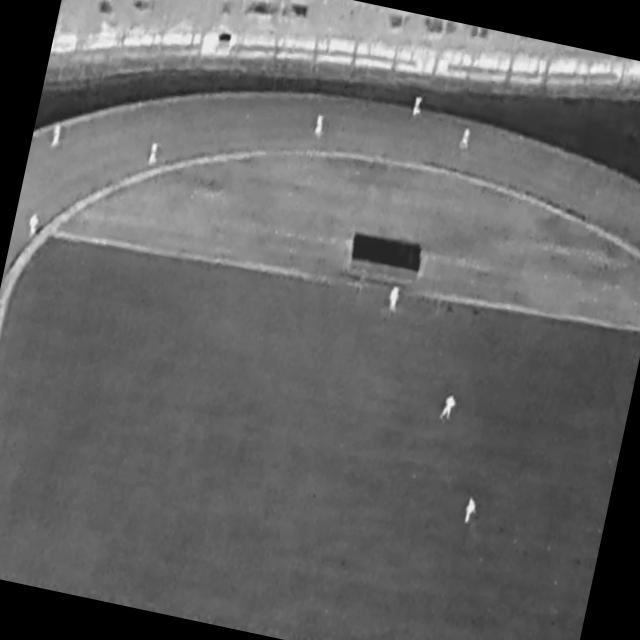person: (440, 393, 458, 421), (464, 496, 480, 525), (387, 285, 403, 313), (50, 120, 65, 149), (147, 140, 162, 167), (27, 213, 41, 239), (460, 125, 473, 150), (413, 95, 425, 117), (314, 114, 326, 135)
